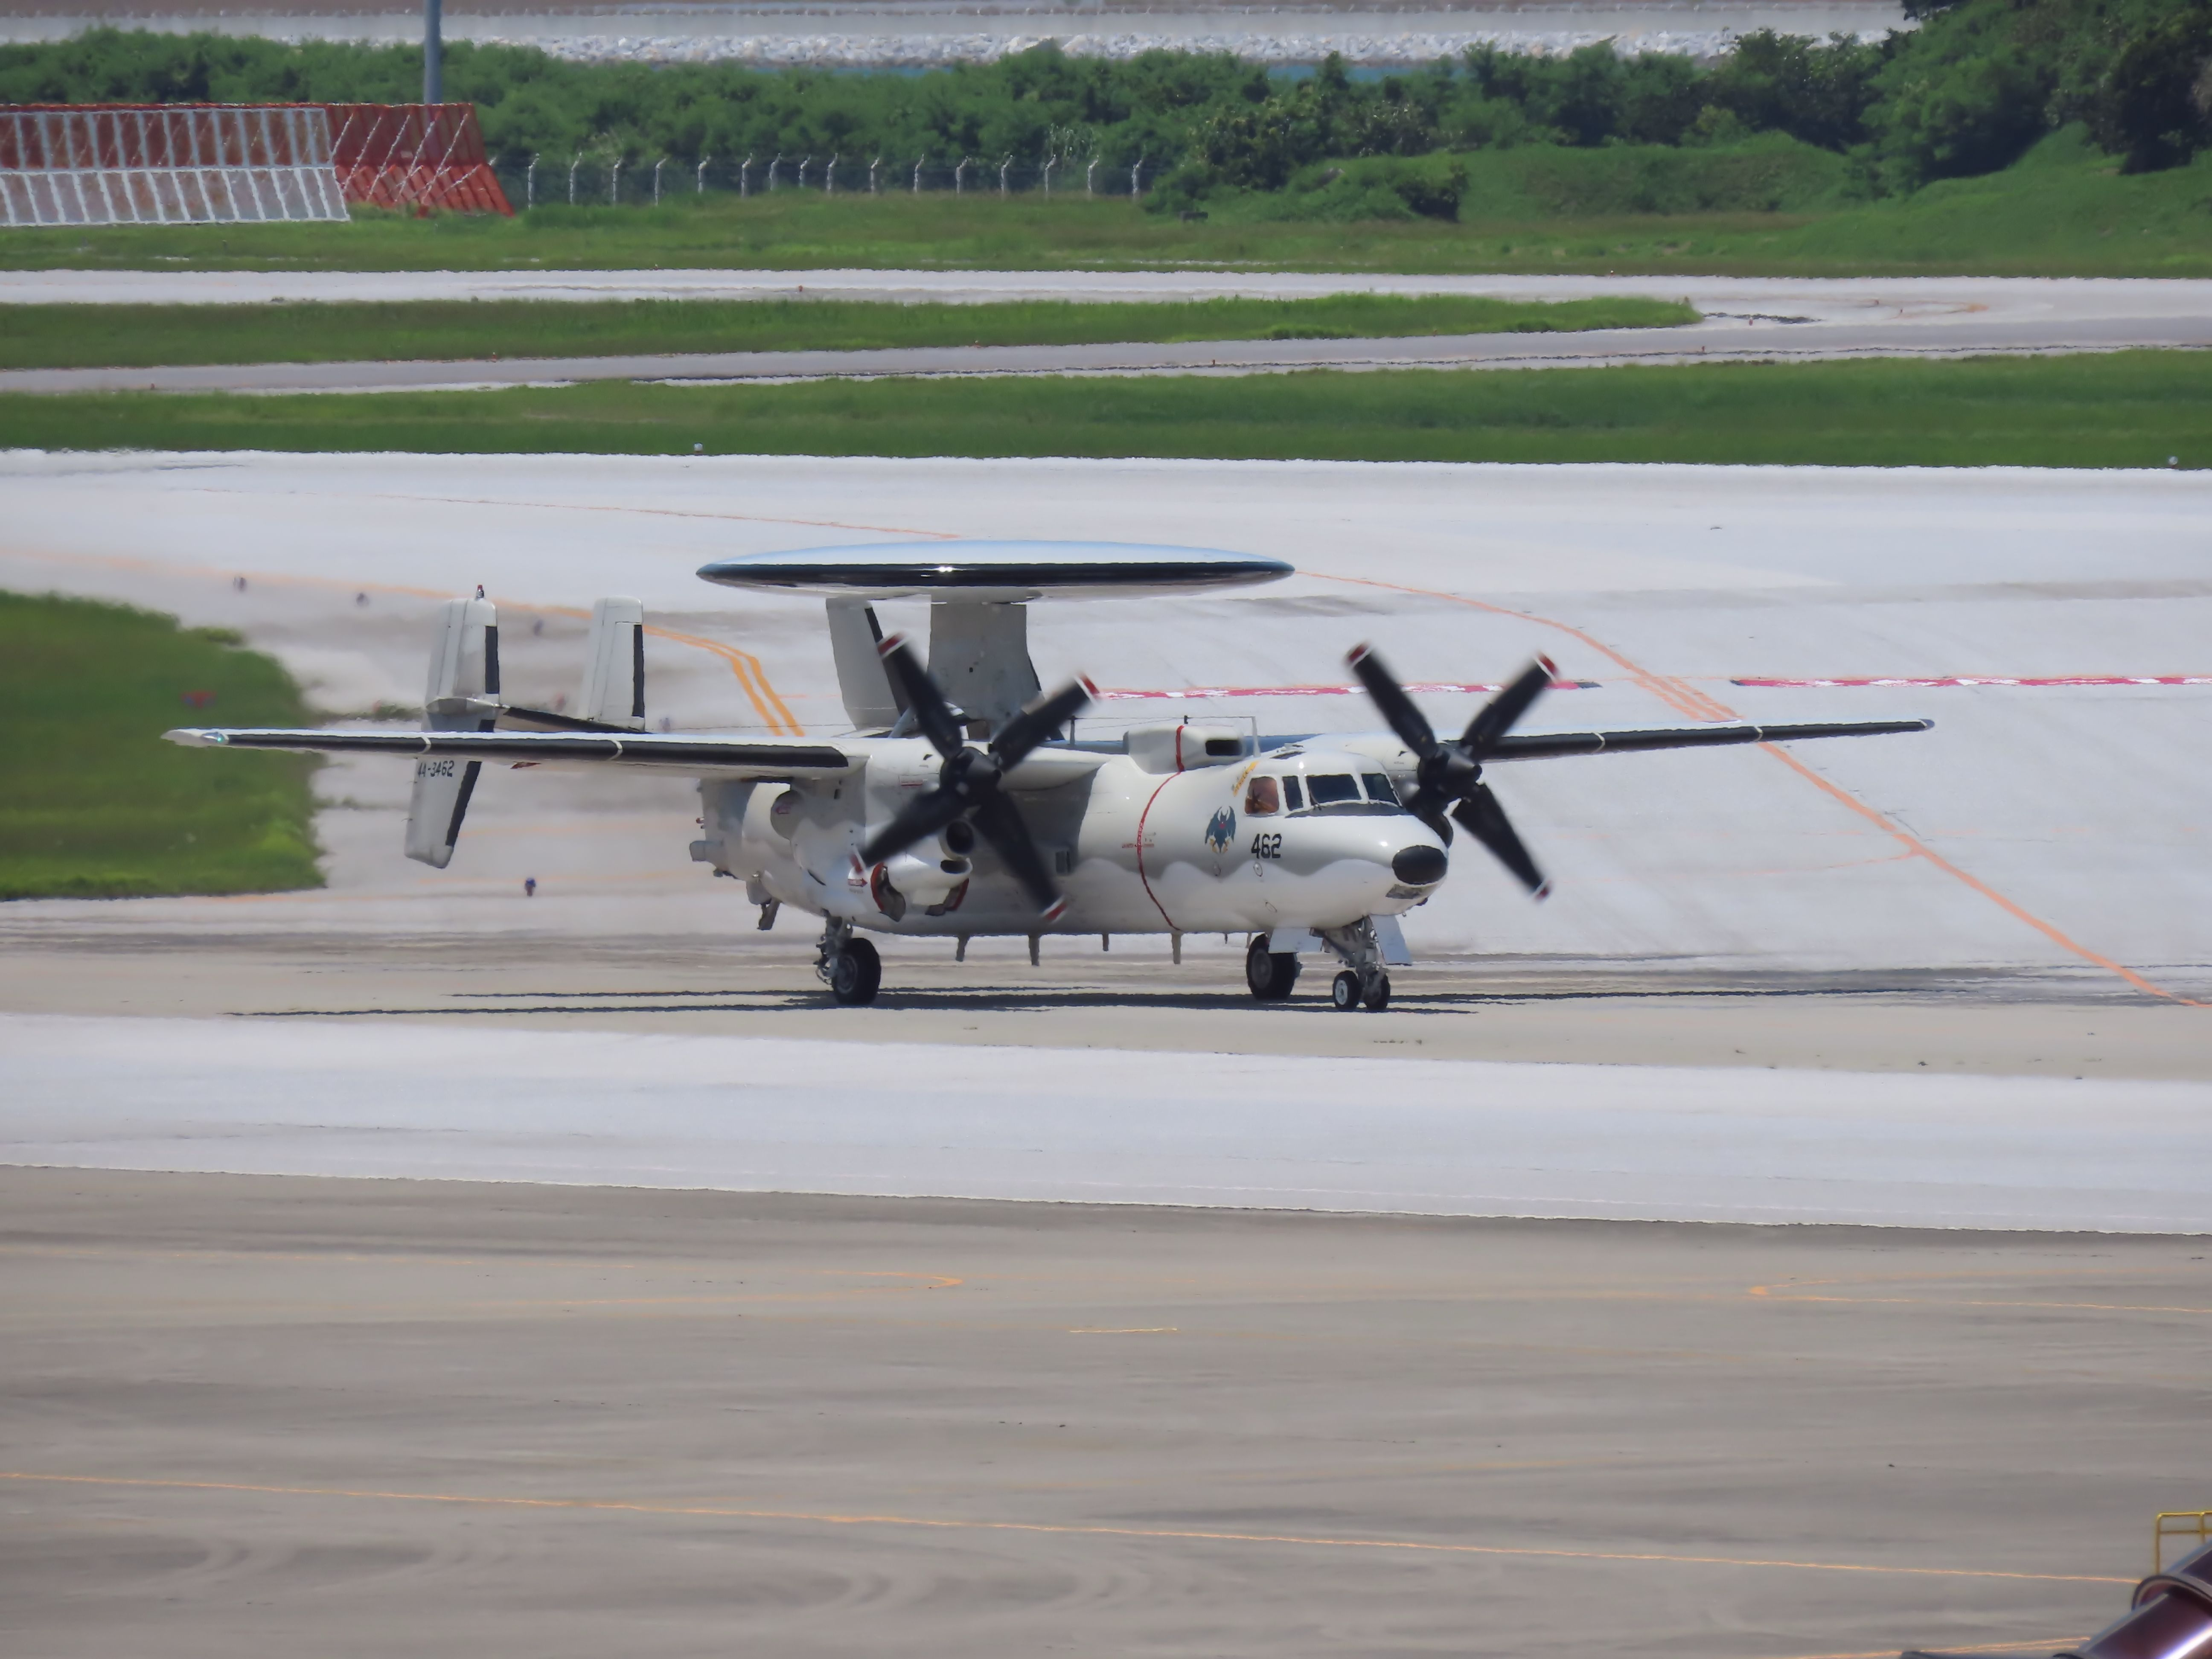E2: (158, 540, 1935, 1012)
